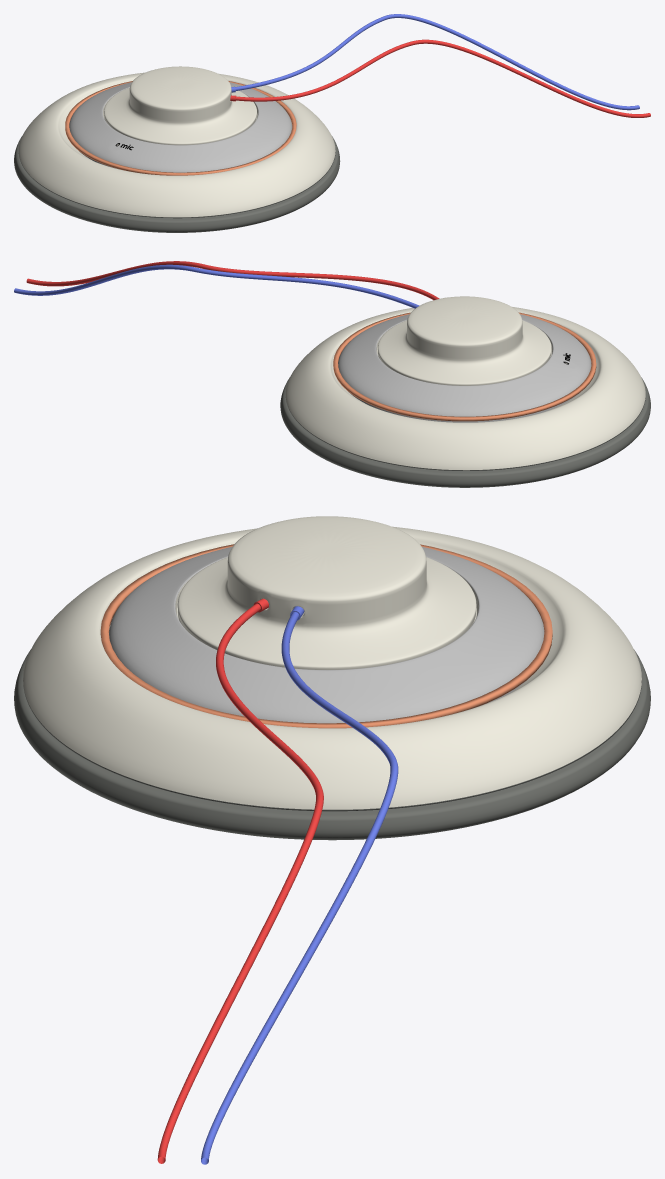
Rendered from sensor.glb.
3 views of the same model, one above another, from view 1: azimuth 30°, elevation 25°; view 2: azimuth 150°, elevation 25°; view 3: azimuth 270°, elevation 25° (orthographic). The views are drawn at different scales.
Visible parts, largest first — view 1: Cone, Cone.001, BezierCurve.002, BezierCurve.001, Cone.002; view 2: Cone, Cone.001, Cone.002, BezierCurve.001, BezierCurve.002; view 3: Cone, Cone.001, Cone.002, BezierCurve.001, BezierCurve.002.
Boxes of the visible parts, bbox=[...] form: Cone: bbox=[14, 72, 340, 232]; Cone.001: bbox=[69, 66, 292, 172]; BezierCurve.002: bbox=[235, 39, 650, 117]; BezierCurve.001: bbox=[235, 14, 639, 110]; Cone.002: bbox=[65, 81, 296, 175]; Cone: bbox=[280, 307, 650, 487]; Cone.001: bbox=[338, 296, 591, 422]; Cone.002: bbox=[333, 312, 596, 421]; BezierCurve.001: bbox=[14, 264, 419, 308]; BezierCurve.002: bbox=[26, 261, 439, 300]; Cone: bbox=[14, 526, 650, 840]; Cone.001: bbox=[109, 516, 544, 723]; Cone.002: bbox=[100, 544, 552, 728]; BezierCurve.001: bbox=[201, 612, 398, 1164]; BezierCurve.002: bbox=[157, 603, 323, 1163].
Bounding box in the file's own units: 4.2 × 0.7573 × 2.08.
